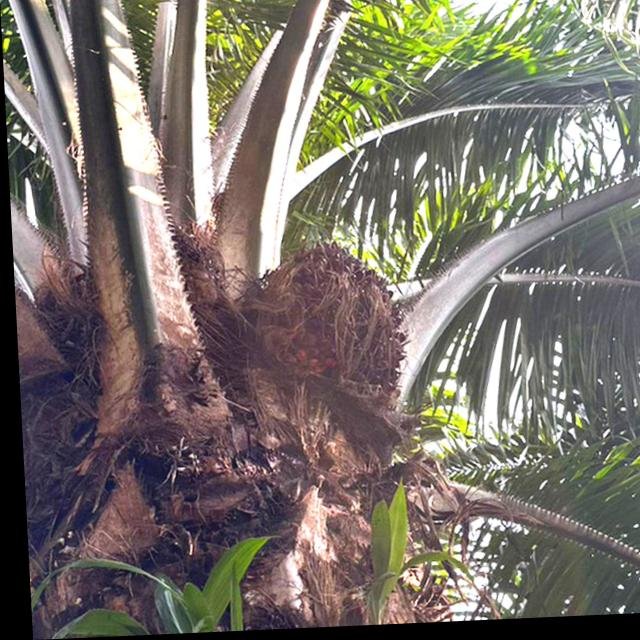ripe: (246, 236, 406, 419)
